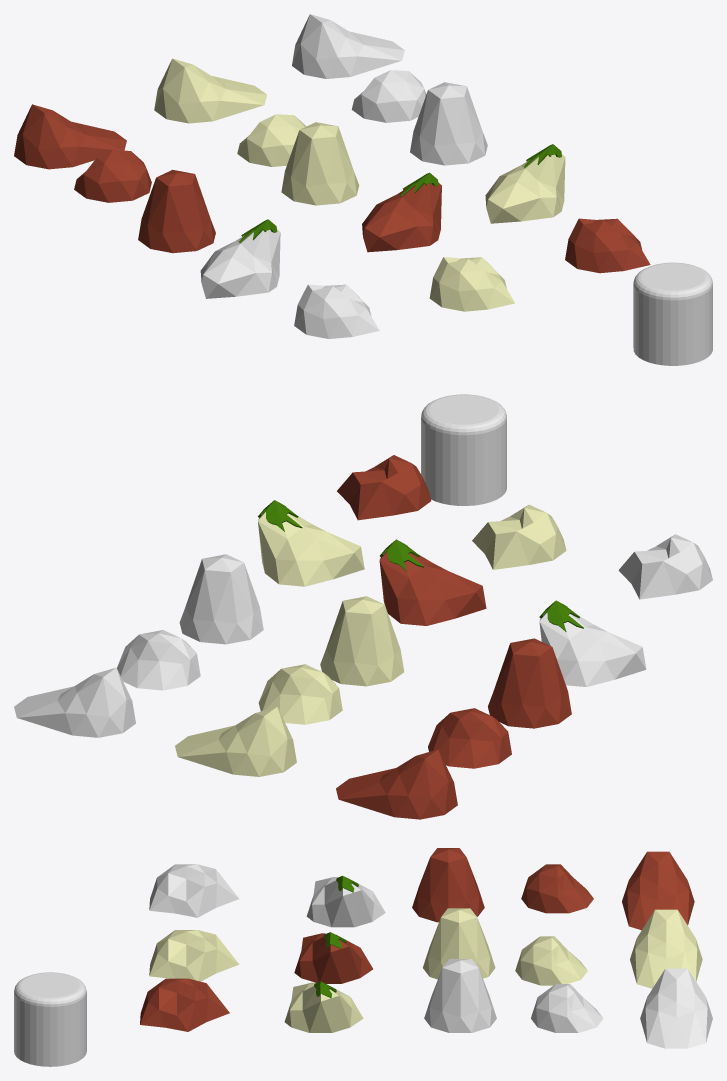
The model's file is stenen.fbx.
3 renders of one model, top to bottom at view 1: azimuth 30°, elevation 25°; view 2: azimuth 150°, elevation 25°; view 3: azimuth 270°, elevation 25°, orthographic. The views are drawn at different scales.
Visible parts, largest first — view 1: Cylinder, Icosphere.002, Icosphere.010, Icosphere.009, Icosphere.005, Icosphere.004, Icosphere.006, Icosphere.001, Icosphere.011, Icosphere.012, Icosphere, Icosphere.014 (+4 smaller); view 2: Cylinder, Icosphere.001, Icosphere.011, Icosphere.002, Icosphere.010, Icosphere.009, Icosphere.012, Icosphere.006, Icosphere.004, Icosphere.005, Icosphere.013, Icosphere.014 (+4 smaller); view 3: Cylinder, Icosphere.004, Icosphere.002, Icosphere.005, Icosphere.006, Icosphere.010, Icosphere.014, Icosphere, Icosphere.013, Icosphere.009, Icosphere.012, Icosphere.001 (+4 smaller).
Part boxes in pixels (bbox=[...]): Cylinder: bbox=[633, 262, 712, 365]; Icosphere.002: bbox=[410, 82, 487, 165]; Icosphere.010: bbox=[138, 169, 215, 253]; Icosphere.009: bbox=[281, 122, 359, 205]; Icosphere.005: bbox=[154, 58, 266, 123]; Icosphere.004: bbox=[292, 14, 404, 78]; Icosphere.006: bbox=[14, 104, 126, 169]; Icosphere.001: bbox=[485, 144, 565, 223]; Icosphere.011: bbox=[362, 172, 441, 252]; Icosphere.012: bbox=[200, 219, 280, 298]; Icosphere: bbox=[565, 218, 650, 273]; Icosphere.014: bbox=[294, 284, 379, 338]; Cylinder: bbox=[421, 394, 506, 505]; Icosphere.001: bbox=[258, 500, 364, 586]; Icosphere.011: bbox=[379, 539, 486, 625]; Icosphere.002: bbox=[179, 554, 263, 644]; Icosphere.010: bbox=[488, 638, 571, 728]; Icosphere.009: bbox=[320, 596, 404, 686]; Icosphere.012: bbox=[539, 600, 646, 686]; Icosphere.006: bbox=[336, 749, 457, 819]; Icosphere.004: bbox=[14, 667, 135, 737]; Icosphere.005: bbox=[175, 706, 296, 776]; Icosphere.013: bbox=[472, 504, 566, 569]; Icosphere.014: bbox=[618, 534, 712, 599]; Cylinder: bbox=[14, 972, 86, 1066]; Icosphere.004: bbox=[640, 968, 712, 1048]; Icosphere.002: bbox=[424, 959, 496, 1032]; Icosphere.005: bbox=[630, 909, 702, 988]; Icosphere.006: bbox=[622, 851, 694, 930]; Icosphere.010: bbox=[412, 848, 484, 922]; Icosphere.014: bbox=[149, 864, 238, 917]; Icosphere: bbox=[140, 978, 229, 1031]; Icosphere.013: bbox=[149, 930, 239, 981]; Icosphere.009: bbox=[423, 908, 495, 979]; Icosphere.012: bbox=[306, 875, 385, 927]; Icosphere.001: bbox=[284, 981, 363, 1032].
Bounding box in the file's own units: 1126 × 276 × 1919.
